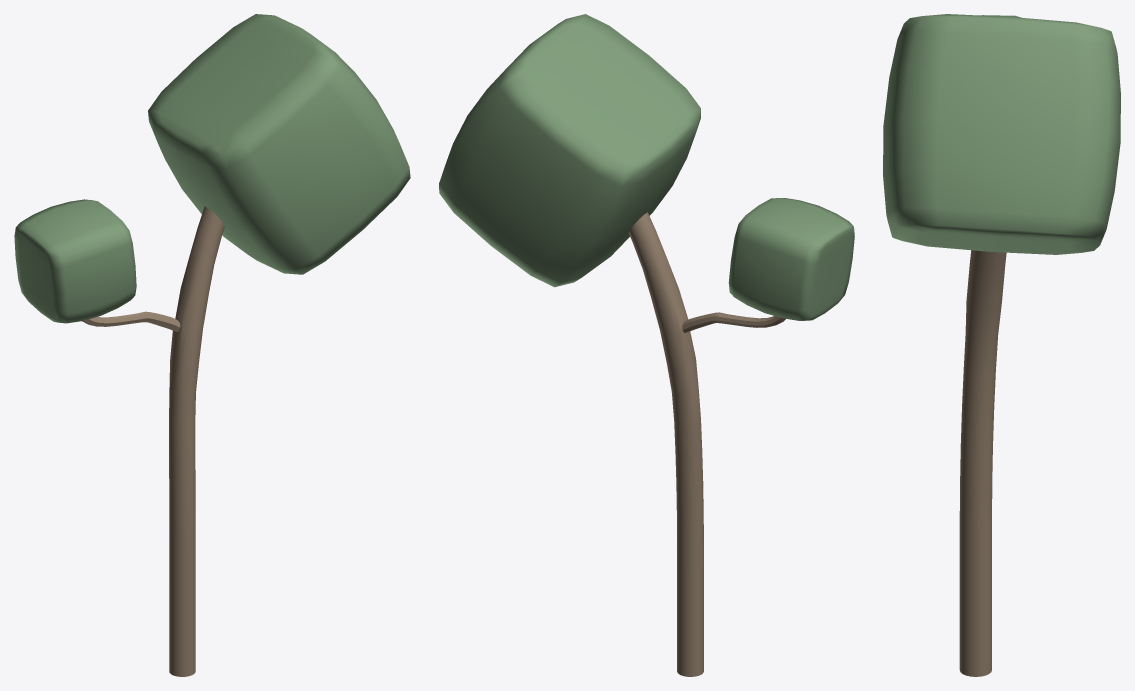
The model's file is Tree_01.fbx.
3 views of the same model, side by side, from view 1: azimuth 30°, elevation 25°; view 2: azimuth 150°, elevation 25°; view 3: azimuth 270°, elevation 25° (orthographic). The views are drawn at different scales.
Visible parts, largest first — view 1: tree_01; view 2: tree_01; view 3: tree_01.
Boxes of the visible parts, x1,y1,x2,y2 form: tree_01: (14,14,410,676); tree_01: (439,14,854,676); tree_01: (883,14,1120,676).
Size of the model in its own units: 44.17 by 71.27 by 21.
